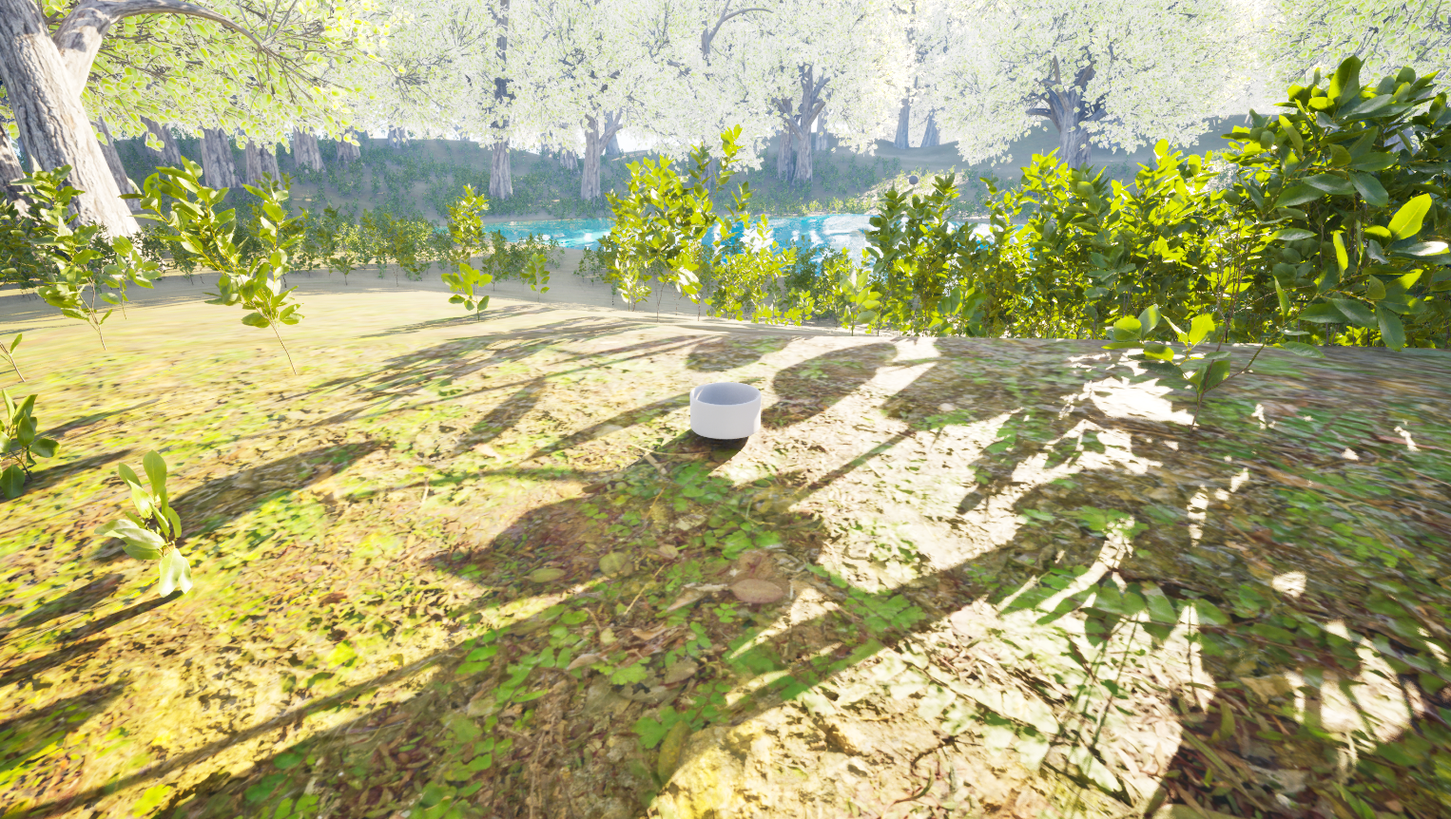Teacup: (676, 375, 784, 446)
